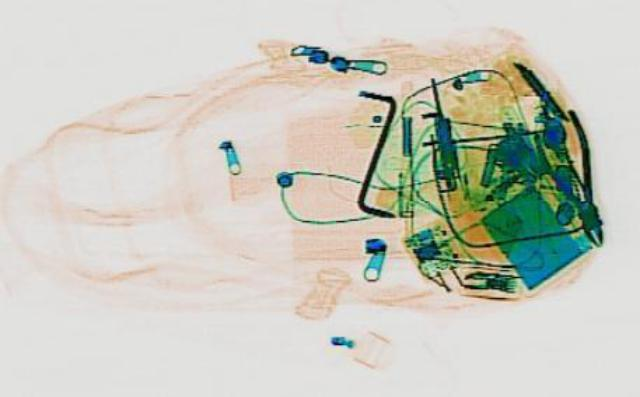Pliers: (517, 107, 627, 248)
